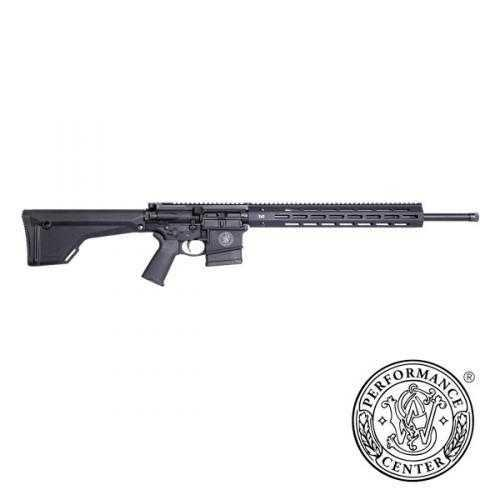heavyweapon: (21, 168, 484, 293)
